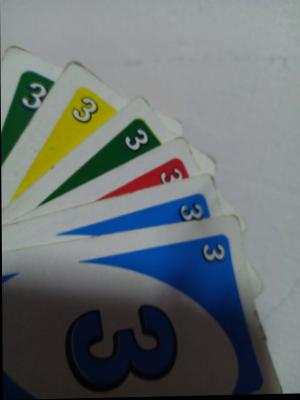blue: (16, 260, 243, 395)
num_3: (64, 92, 105, 125), (19, 80, 49, 111), (195, 241, 230, 265), (117, 129, 150, 154)
